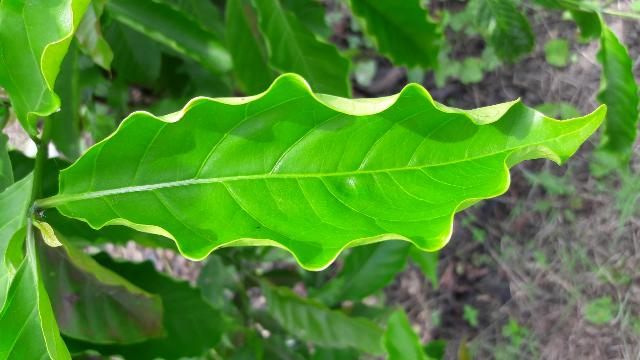healthy: (57, 81, 603, 268)
